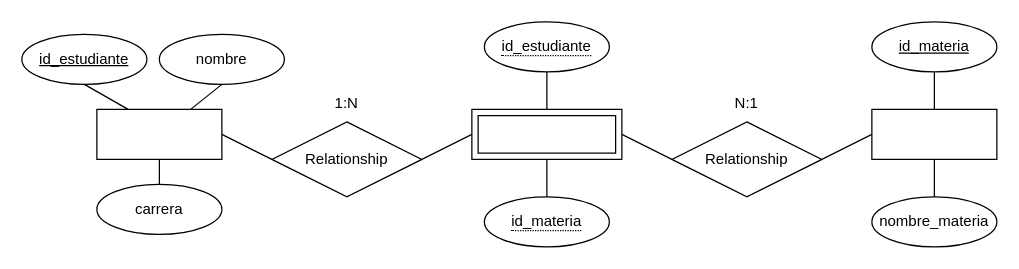
Image size: 1019x269. Some labels were removed from this diagram. The centre of each missing label's shape, as x and y in pixels:
"estudiante" goes at pixel 159 133.
"estudiante_materia" goes at pixel 546 133.
"materia" goes at pixel 934 133.
